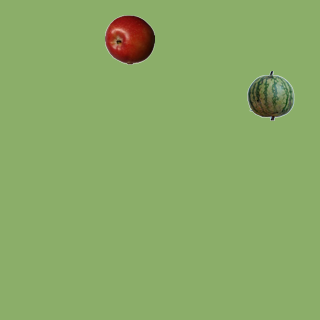Apple Braeburn: (104, 14, 154, 64)
Watermelon: (245, 70, 295, 120)
